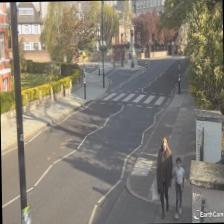person: (155, 136, 173, 218), (170, 156, 185, 218)
